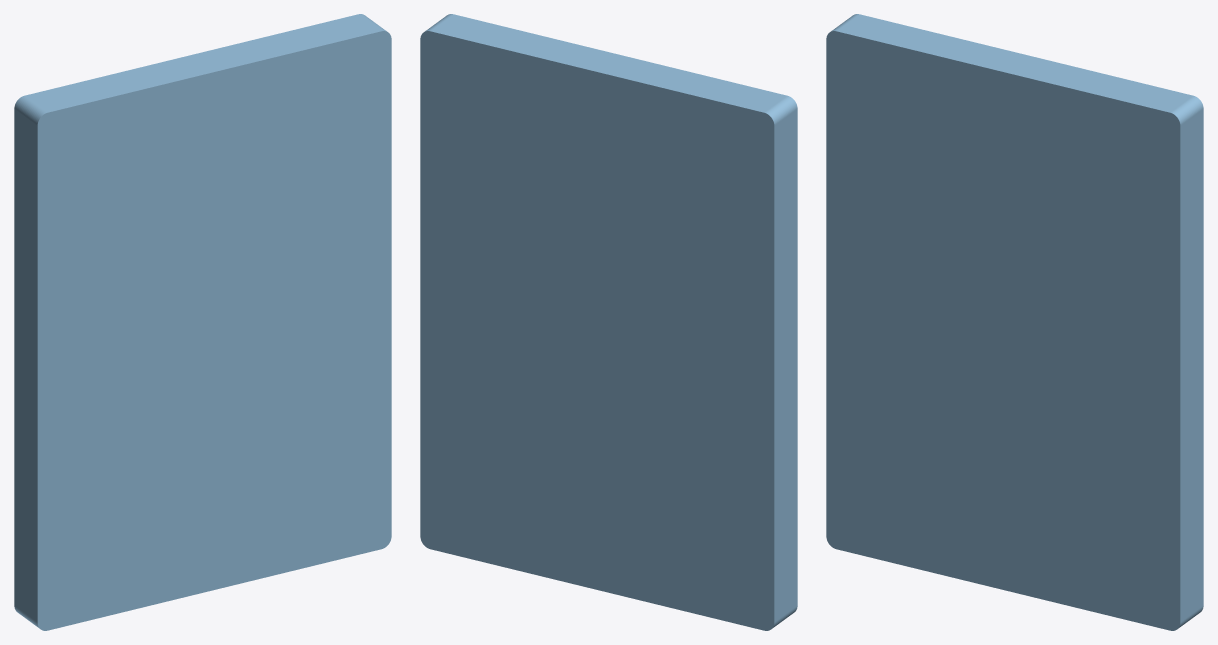
The model's file is battery-envelope-DO-NOT-PRINT.glb.
The picture shows the model from 3 angles, left to right: view 1: azimuth 30°, elevation 25°; view 2: azimuth 150°, elevation 25°; view 3: azimuth 330°, elevation 25°; orthographic projection.
Parts seen in each view (by area): view 1: protected-cell-nominal; view 2: protected-cell-nominal; view 3: protected-cell-nominal.
Part boxes in pixels (<box>): protected-cell-nominal: <box>14,14,391,630</box>; protected-cell-nominal: <box>420,14,797,630</box>; protected-cell-nominal: <box>826,14,1203,630</box>.
Size of the model in its own units: 49.2 by 68.8 by 5.6.
